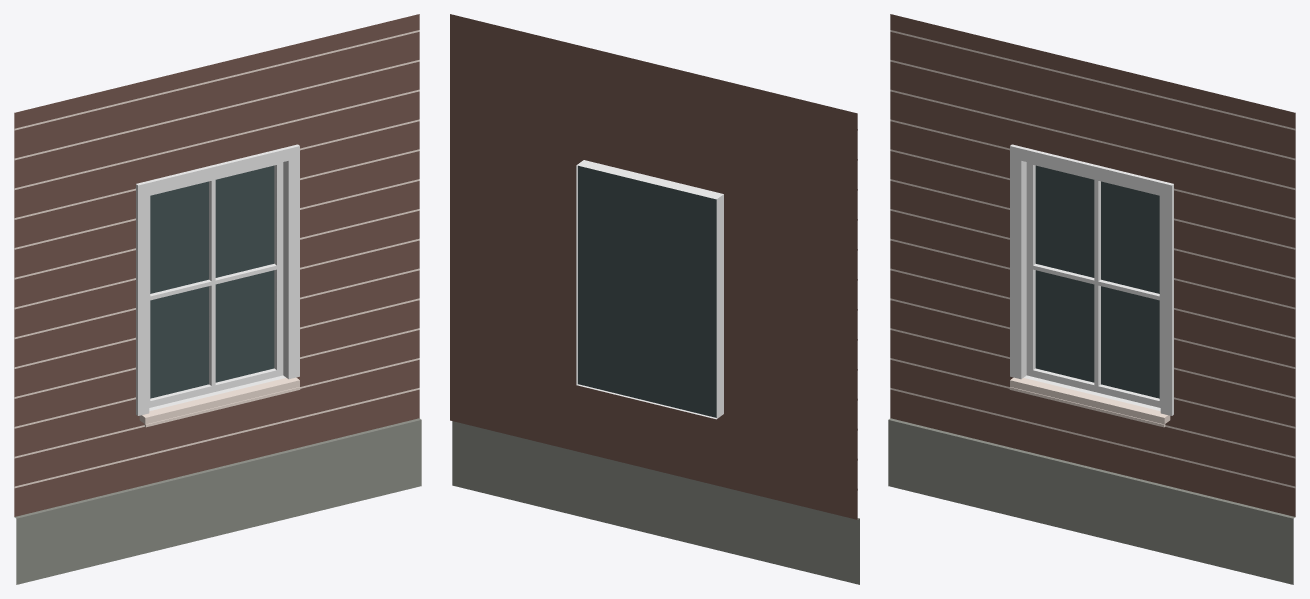
File: base-w1_close.fbx
3 renders of one model, left to right at view 1: azimuth 30°, elevation 25°; view 2: azimuth 150°, elevation 25°; view 3: azimuth 330°, elevation 25°, orthographic.
Visible parts, largest first — view 1: a2000s2/800/base-w1_close; view 2: a2000s2/800/base-w1_close; view 3: a2000s2/800/base-w1_close.
Part boxes in pixels (bbox=[...]): a2000s2/800/base-w1_close: bbox=[14, 14, 421, 584]; a2000s2/800/base-w1_close: bbox=[450, 14, 859, 584]; a2000s2/800/base-w1_close: bbox=[888, 14, 1295, 584].
Bounding box in the file's own units: 3.2 × 3.55 × 0.185.
